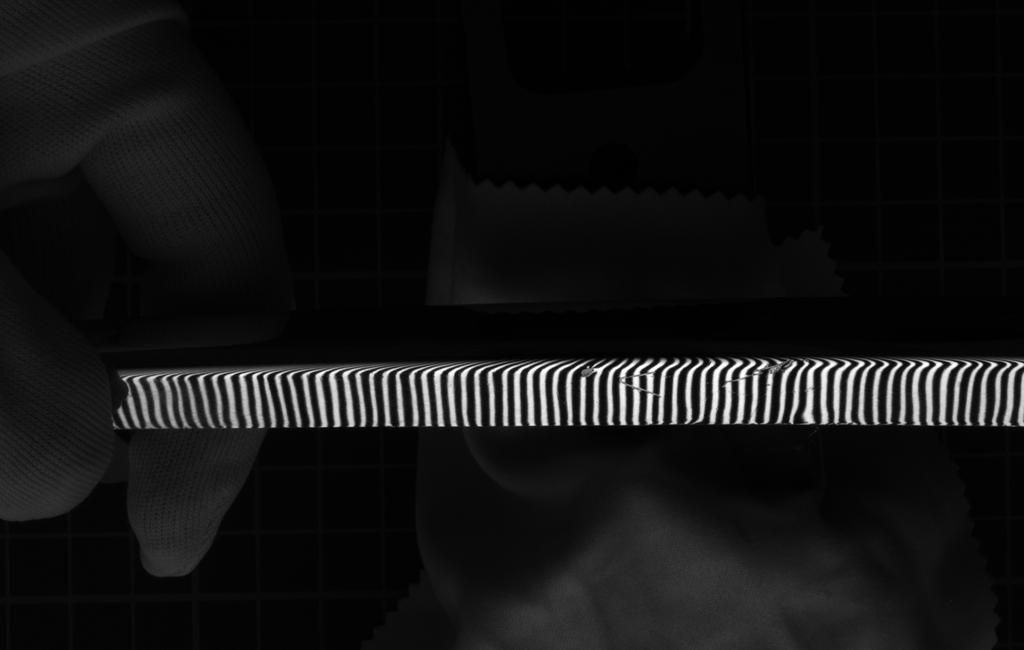Pierced: (573, 359, 604, 388)
Scratch: (716, 358, 804, 396), (607, 364, 667, 407)
